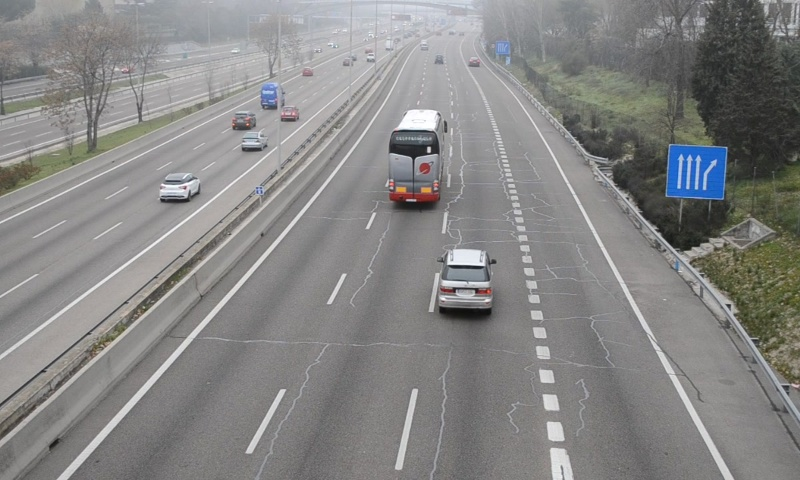bus: (388, 110, 446, 205)
car: (436, 249, 493, 313)
